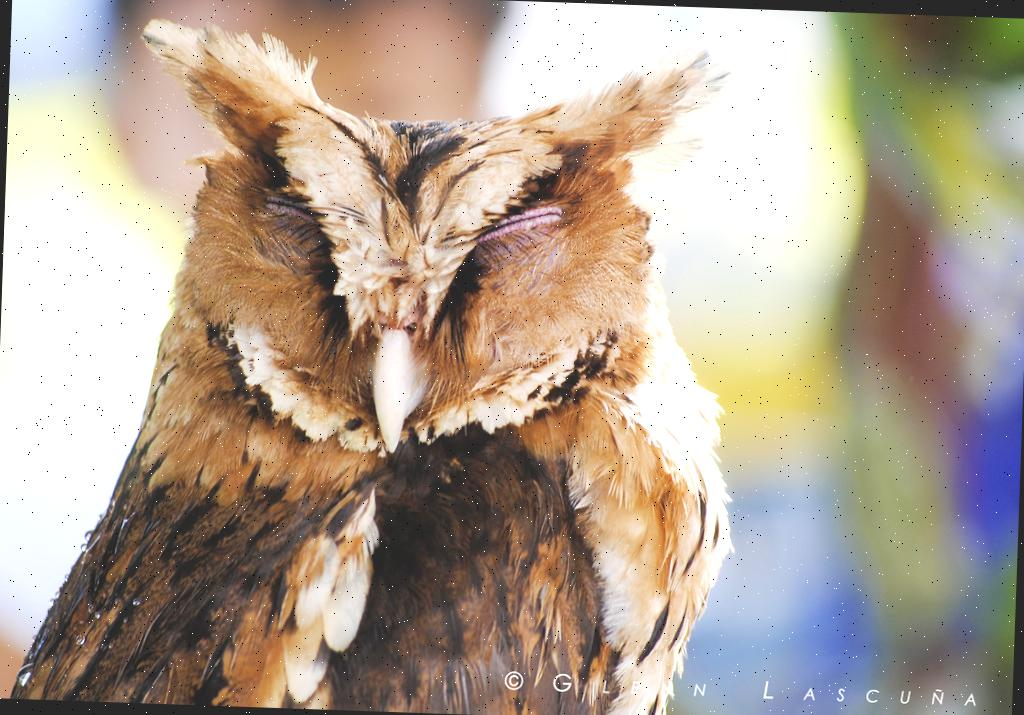Owl: (9, 5, 754, 715)
